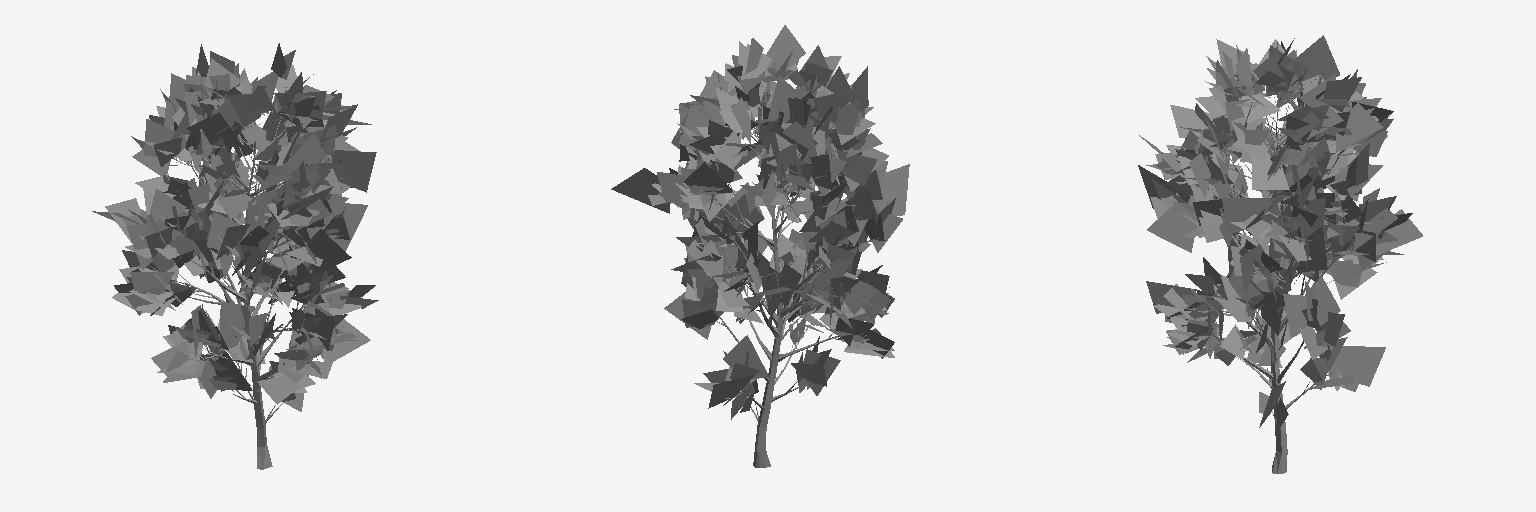
File: Tree05.obj
The picture shows the model from 3 angles: view 1: azimuth 30°, elevation 25°; view 2: azimuth 150°, elevation 25°; view 3: azimuth 270°, elevation 25°; orthographic projection.
Parts seen in each view (by area): view 1: Mesh; view 2: Mesh; view 3: Mesh.
Part boxes in pixels (x1,y1,x2,y2): Mesh: (92,43,378,469); Mesh: (611,25,909,467); Mesh: (1138,35,1422,473).
Bounding box in the file's own units: 13.86 × 21.01 × 12.95.